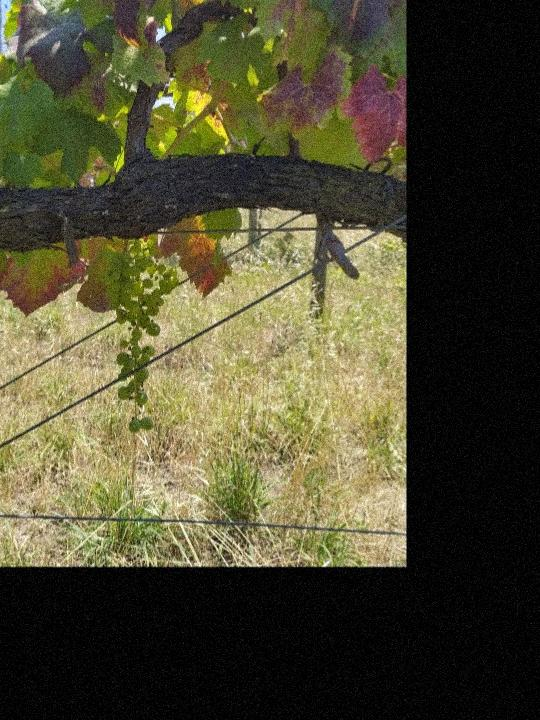grape: (99, 237, 184, 439)
